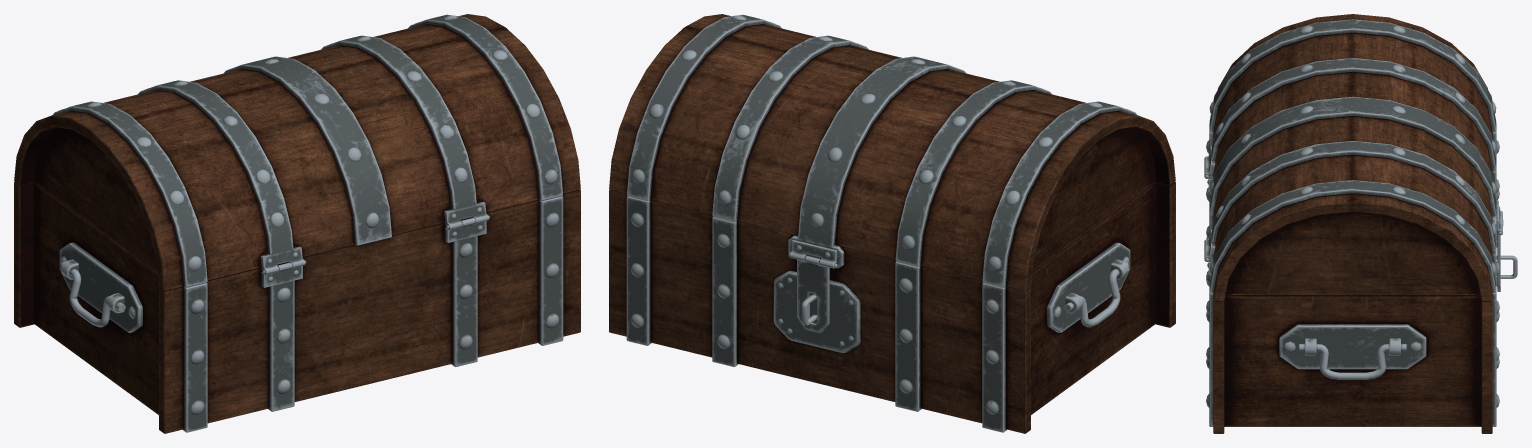
The model's file is Chest2.fbx.
3 renders of one model, left to right at view 1: azimuth 30°, elevation 25°; view 2: azimuth 150°, elevation 25°; view 3: azimuth 270°, elevation 25°, orthographic. The views are drawn at different scales.
Parts seen in each view (by area): view 1: Chest2; view 2: Chest2; view 3: Chest2.
Part boxes in pixels (left/top/right/bottom): Chest2: left=14, top=14, right=580, bottom=433; Chest2: left=609, top=14, right=1175, bottom=433; Chest2: left=1204, top=14, right=1517, bottom=433.
Bounding box in the file's own units: 169 × 97.24 × 116.
